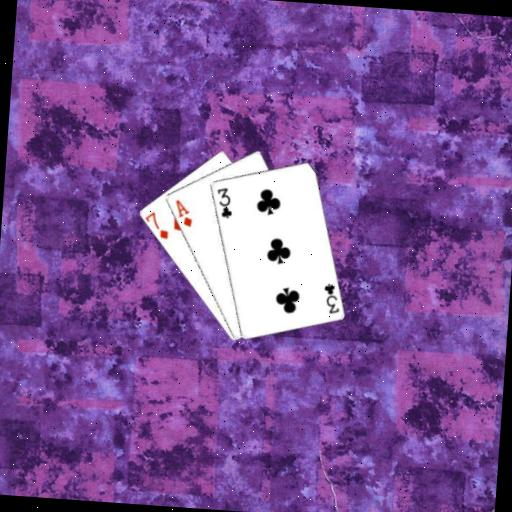3C: (211, 183, 235, 220), (319, 280, 343, 316)
7D: (141, 208, 171, 241)
AD: (171, 196, 195, 229)
